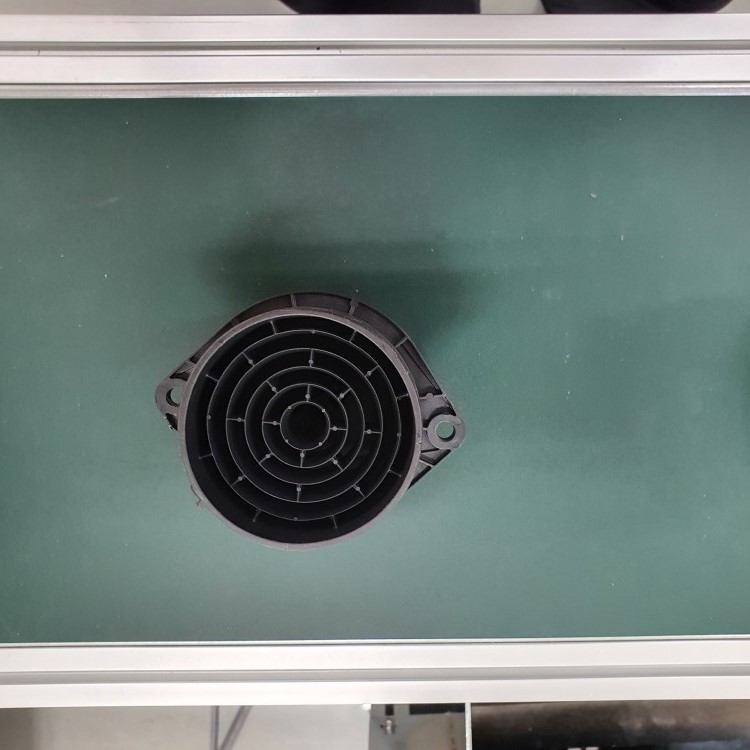nok: (153, 289, 465, 552)
